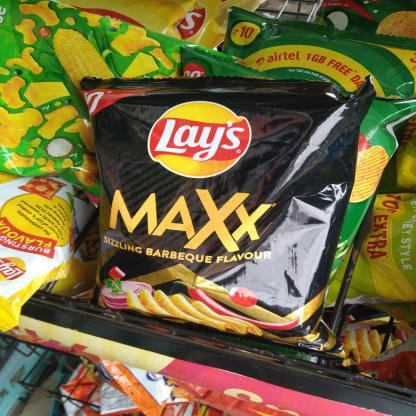maxx_sizzling_barbeque: (86, 77, 375, 352)
